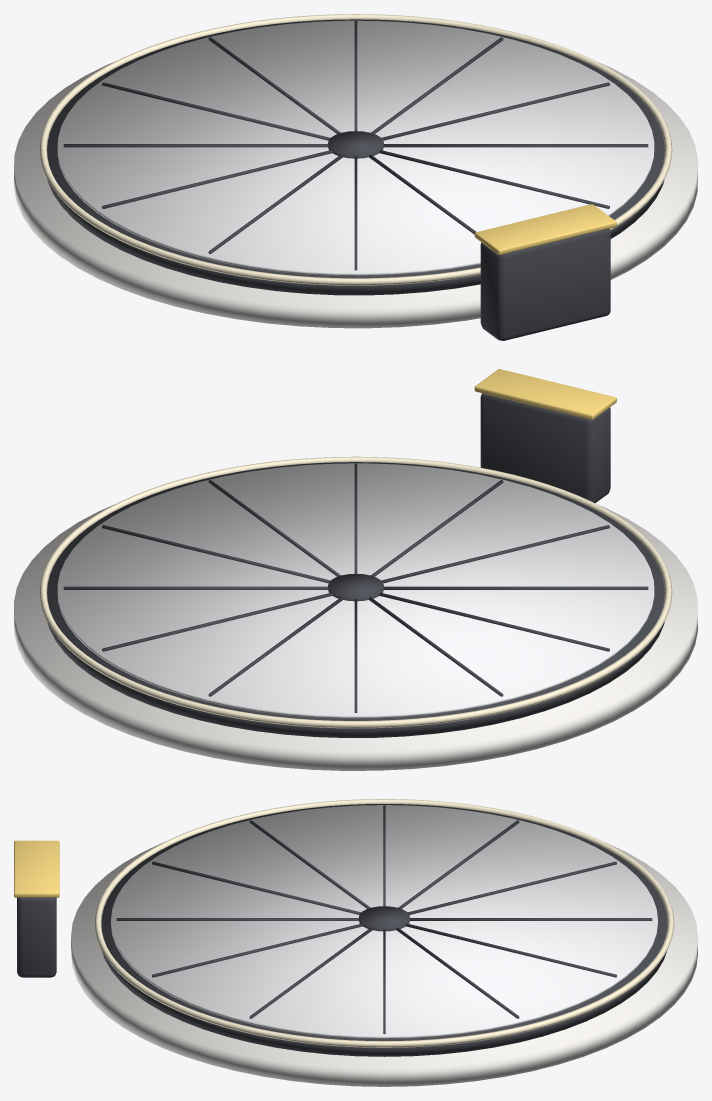
The model's file is CarStand.fbx.
3 renders of one model, top to bottom at view 1: azimuth 30°, elevation 25°; view 2: azimuth 150°, elevation 25°; view 3: azimuth 270°, elevation 25°, orthographic. The views are drawn at different scales.
Visible parts, largest first — view 1: Chrome, Dark.002, Marble, Glow.002, Gold; view 2: Chrome, Dark.002, Marble, Glow.002, Gold; view 3: Chrome, Marble, Dark.002, Glow.002, Gold.
Boxes of the visible parts, x1=… form: Chrome: x1=57, y1=20, x2=654, y2=275; Dark.002: x1=47, y1=19, x2=664, y2=340; Marble: x1=14, y1=62, x2=697, y2=328; Glow.002: x1=39, y1=14, x2=672, y2=285; Gold: x1=474, y1=204, x2=616, y2=254; Chrome: x1=57, y1=463, x2=654, y2=718; Dark.002: x1=47, y1=393, x2=664, y2=737; Marble: x1=14, y1=505, x2=697, y2=770; Glow.002: x1=39, y1=456, x2=672, y2=728; Gold: x1=474, y1=369, x2=616, y2=419; Chrome: x1=111, y1=805, x2=657, y2=1038; Marble: x1=71, y1=842, x2=697, y2=1086; Dark.002: x1=17, y1=804, x2=667, y2=1056; Glow.002: x1=94, y1=799, x2=674, y2=1047; Gold: x1=14, y1=840, x2=59, y2=897.
Size of the model in its own units: 22 by 3.4 by 24.
